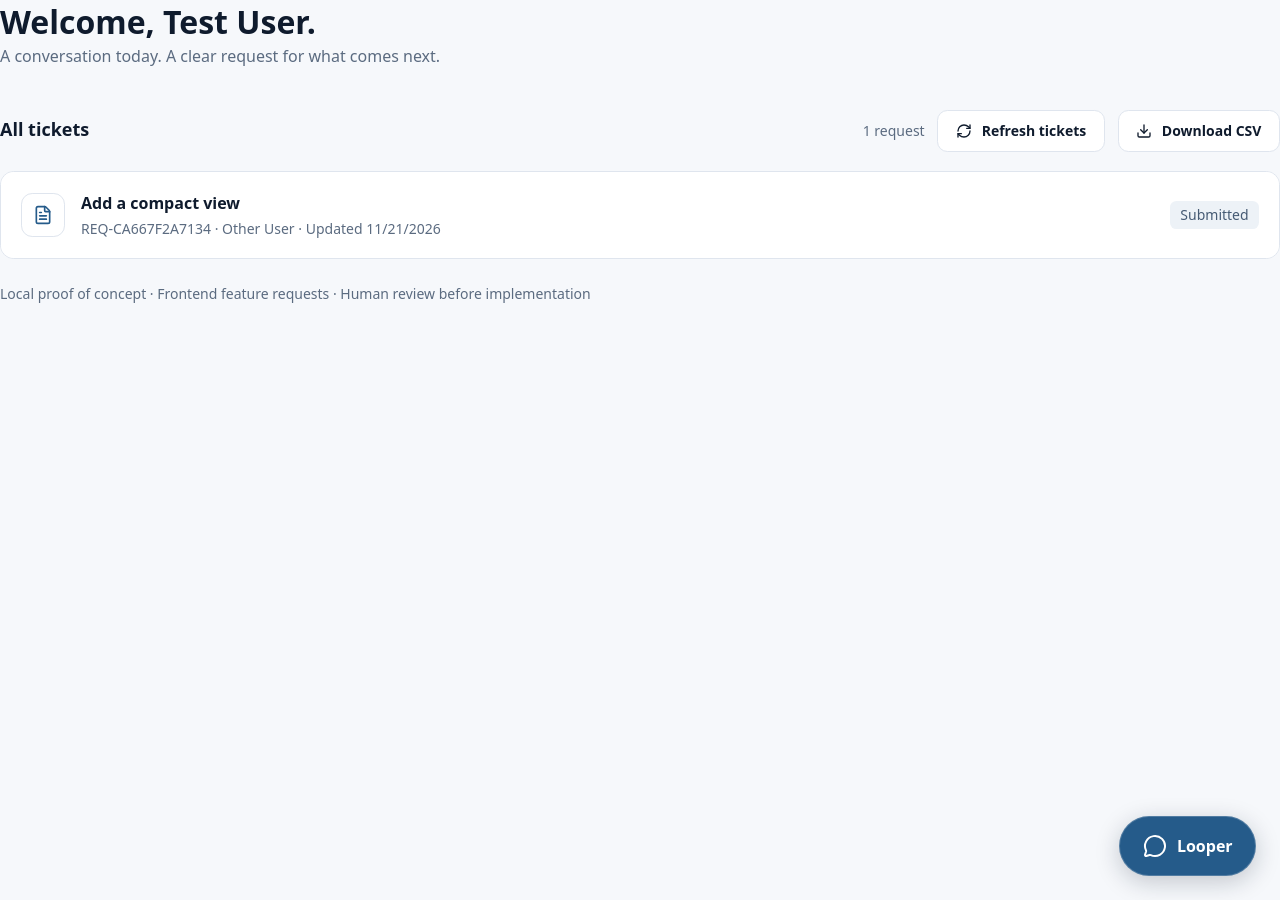
Test: browser ticket capture › lets a Master see all saved tickets while keeping other requesters tickets read only
Check: the heading "All tickets" is shown, box 0,118 -> 89,142
Click the button "Add a compact view": (43, 215) 1,172 -> 1279,258
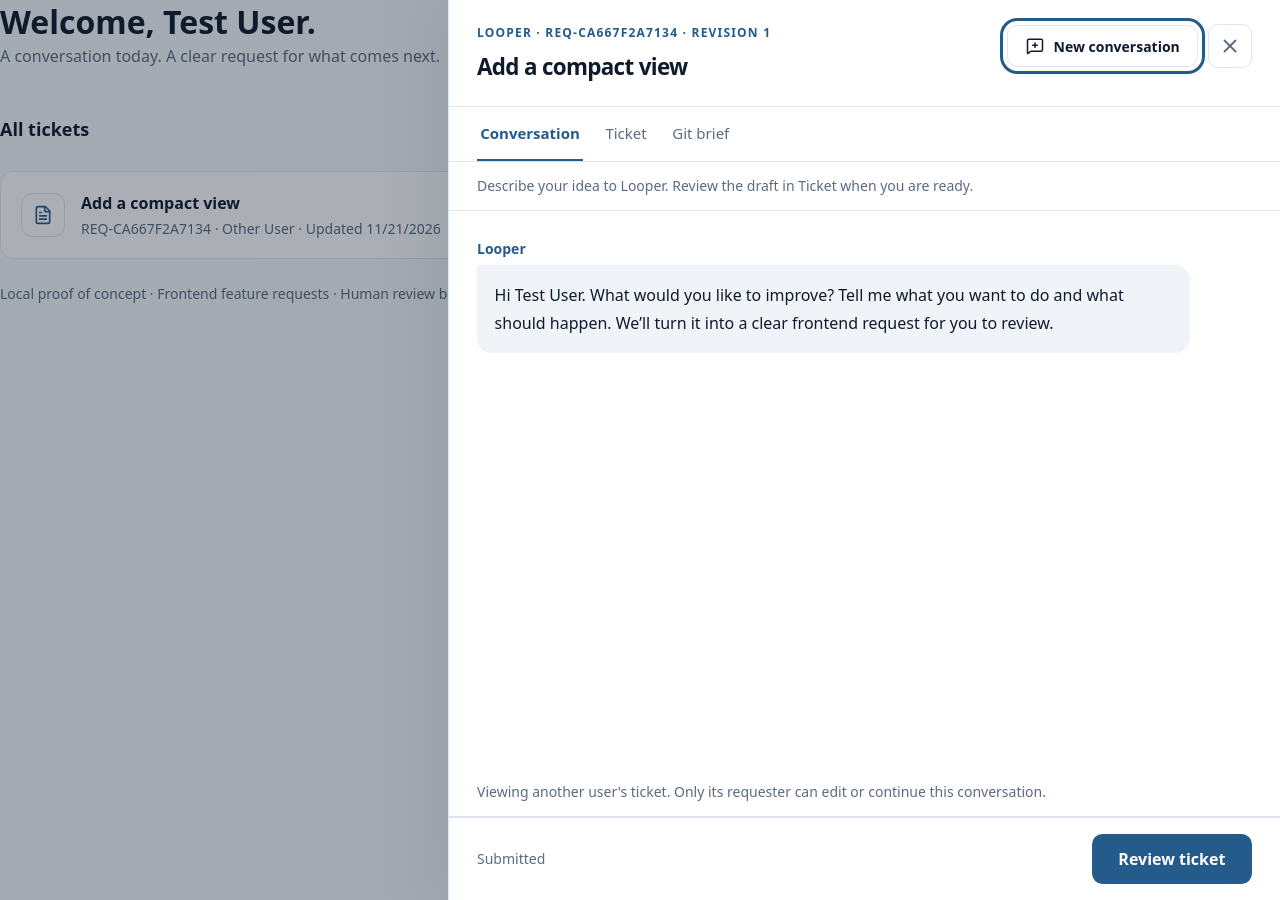
Click the tab "Ticket": (626, 134) 602,107 -> 650,161
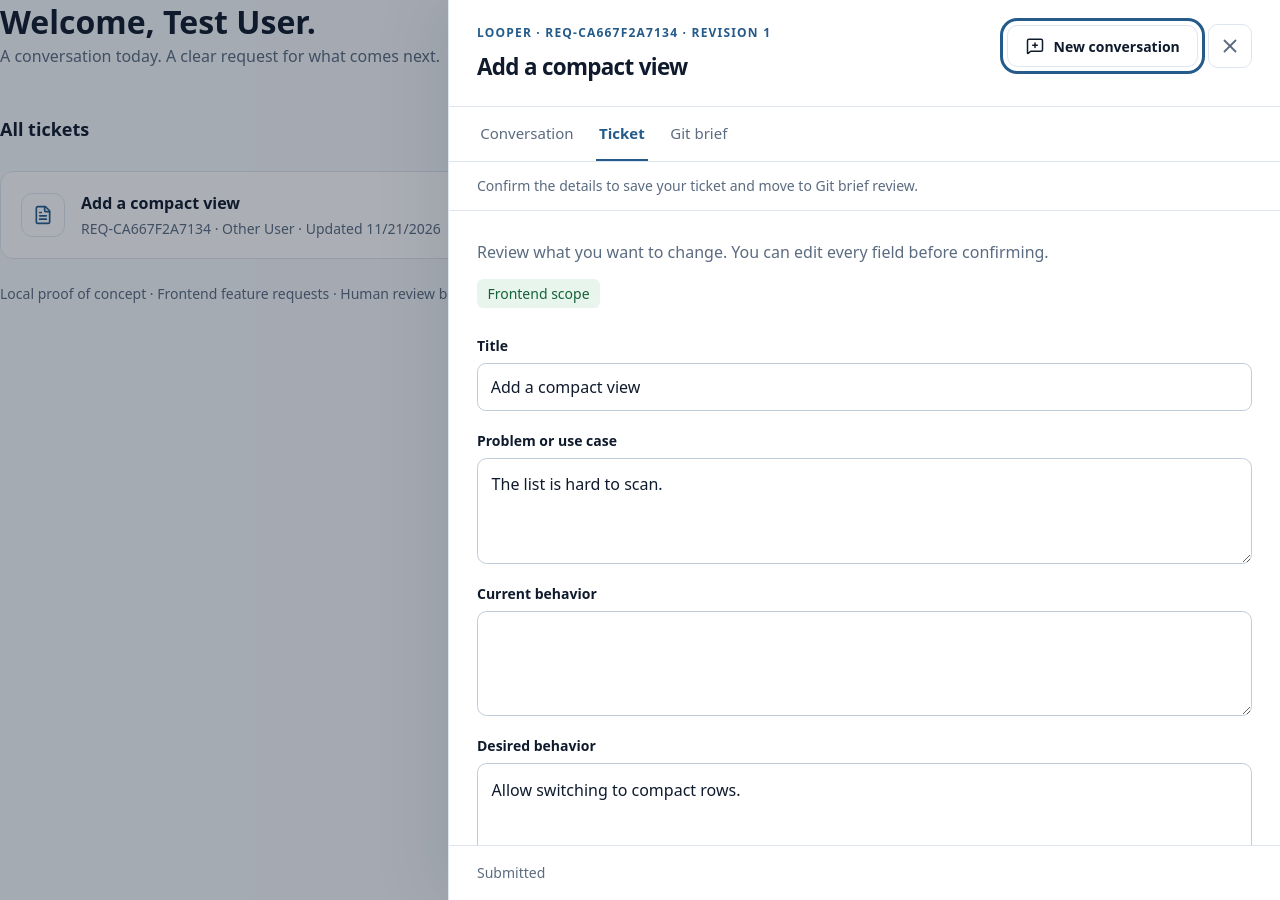
Check: the field labelled "Title" is disabled, box 477,362 -> 1252,410
